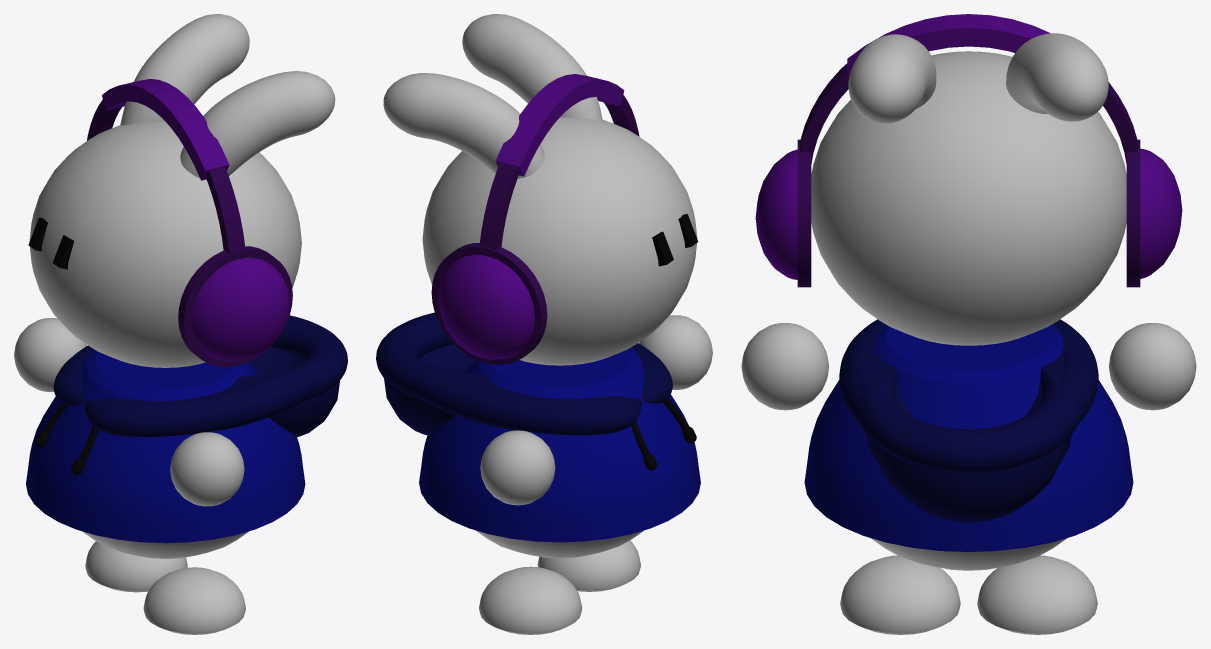
File: game jam.fbx
3 views of the same model, side by side, from view 1: azimuth 30°, elevation 25°; view 2: azimuth 150°, elevation 25°; view 3: azimuth 270°, elevation 25° (orthographic). The views are drawn at different scales.
Visible parts, largest first — view 1: Head, Cone, Torus, Capsule_2, Sphere_3, Capsule_3, Foot_right, Tube, Hand_right, Hood_rim, Hand_left, Foot_left (+5 smaller); view 2: Head, Cone, Torus, Capsule_3, Sphere_3_2, Capsule_2, Foot_left, Tube, Hand_left, Hood_rim, Hand_right, Cylinder (+5 smaller); view 3: Head, Cone, Hood_rim, Sphere_4_2, Foot_left, Foot_right, Capsule_3, Capsule_2, Hand_left, Hand_right, Torus, Sphere_3 (+7 smaller).
Part boxes in pixels (<box>): Head: <box>29,121,301,367</box>; Cone: <box>26,350,305,543</box>; Torus: <box>53,345,313,436</box>; Capsule_2: <box>180,71,335,179</box>; Sphere_3: <box>192,257,290,361</box>; Capsule_3: <box>120,14,249,125</box>; Foot_right: <box>143,567,245,634</box>; Tube: <box>102,79,229,180</box>; Hand_right: <box>170,432,244,506</box>; Hood_rim: <box>271,315,347,401</box>; Hand_left: <box>14,318,86,392</box>; Foot_left: <box>85,541,187,592</box>; Head: <box>422,117,697,365</box>; Cone: <box>419,347,700,542</box>; Torus: <box>411,343,672,435</box>; Capsule_3: <box>383,73,544,178</box>; Sphere_3_2: <box>438,254,534,359</box>; Capsule_2: <box>462,14,602,120</box>; Foot_left: <box>479,566,582,634</box>; Tube: <box>495,74,624,176</box>; Hand_left: <box>480,430,555,505</box>; Hood_rim: <box>376,312,453,399</box>; Hand_right: <box>639,315,712,389</box>; Cylinder: <box>431,243,547,364</box>; Head: <box>811,51,1126,345</box>; Cone: <box>804,324,1133,551</box>; Hood_rim: <box>857,367,1080,473</box>; Sphere_4_2: <box>866,435,1071,522</box>; Foot_left: <box>977,555,1097,634</box>; Foot_right: <box>840,555,960,634</box>; Capsule_3: <box>1006,33,1108,121</box>; Capsule_2: <box>848,34,936,123</box>; Hand_left: <box>1109,323,1196,410</box>; Hand_right: <box>741,323,828,410</box>; Torus: <box>839,319,1098,422</box>; Sphere_3: <box>755,149,797,279</box>.
Size of the model in its own units: 145 by 249 by 166.
